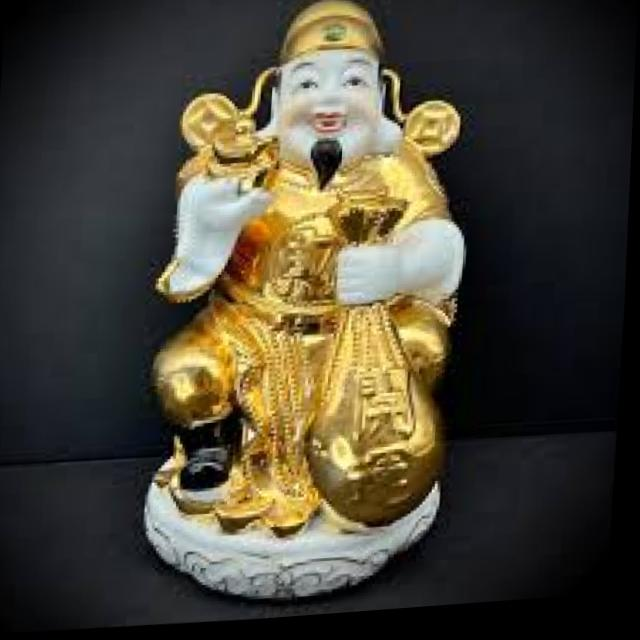Cai shen: (153, 0, 469, 523)
